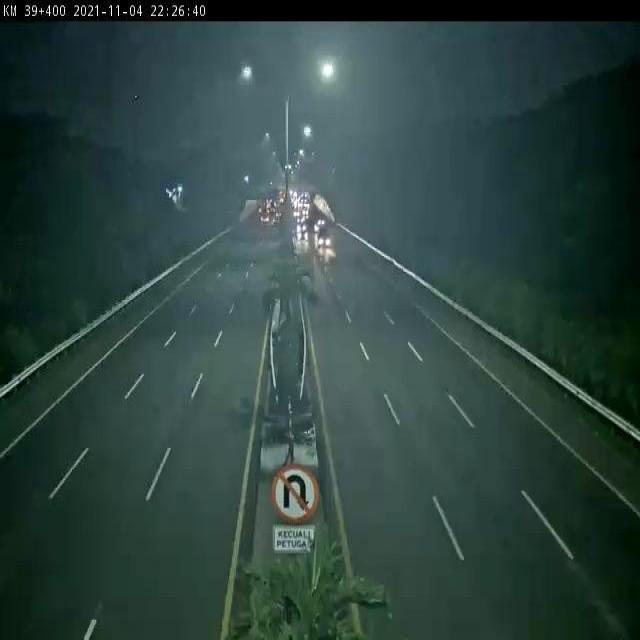car: (317, 232, 330, 249)
